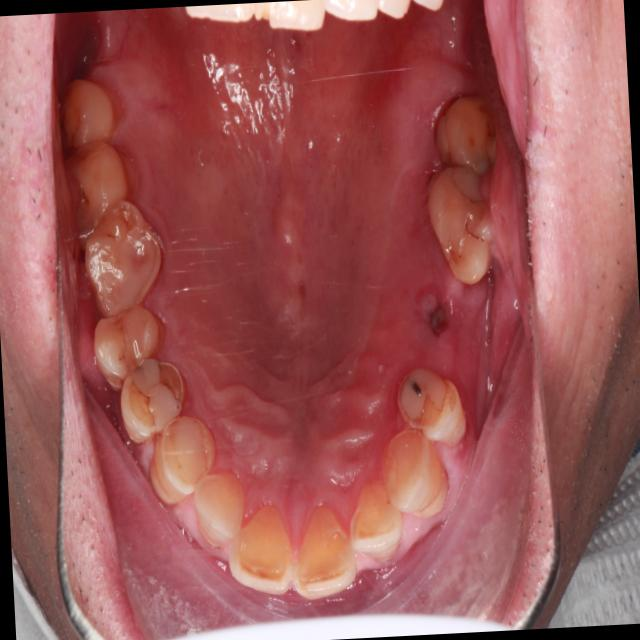tooth: (77, 191, 177, 329), (418, 155, 507, 290), (57, 136, 144, 256), (371, 410, 455, 529), (139, 401, 225, 513), (387, 350, 475, 452), (218, 494, 299, 602), (85, 301, 174, 395), (423, 79, 505, 179), (114, 352, 196, 451), (288, 497, 358, 605), (53, 62, 127, 161), (340, 466, 409, 567), (185, 465, 251, 555)
